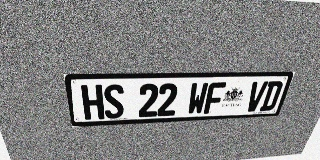2: (157, 83, 178, 116), (139, 83, 159, 117)
D: (259, 81, 284, 111)
F: (203, 82, 226, 114)
H: (81, 85, 105, 120)
S: (103, 84, 124, 119)
V: (244, 81, 269, 112)
W: (187, 82, 209, 115)
